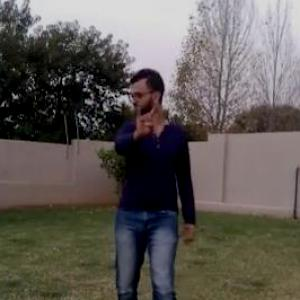takeoff-hand: (130, 98, 160, 141)
